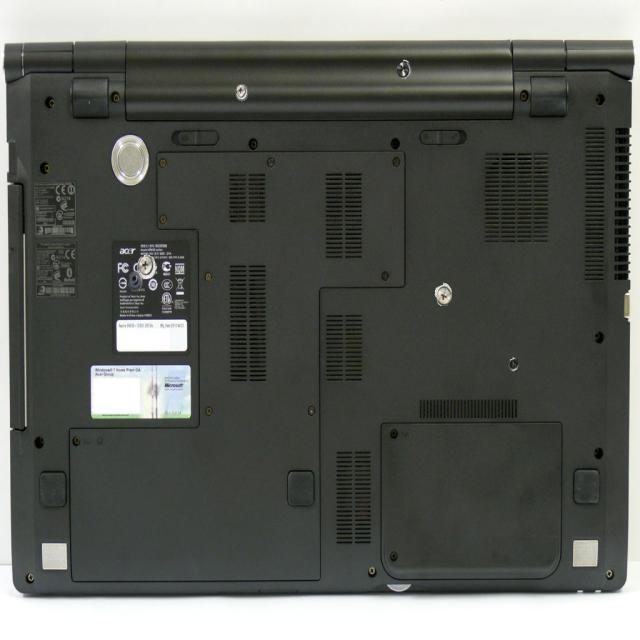lock: (137, 254, 156, 279), (434, 282, 452, 306), (396, 59, 411, 79), (235, 83, 248, 100), (508, 357, 519, 372)
missing_screw: (128, 271, 142, 291)
